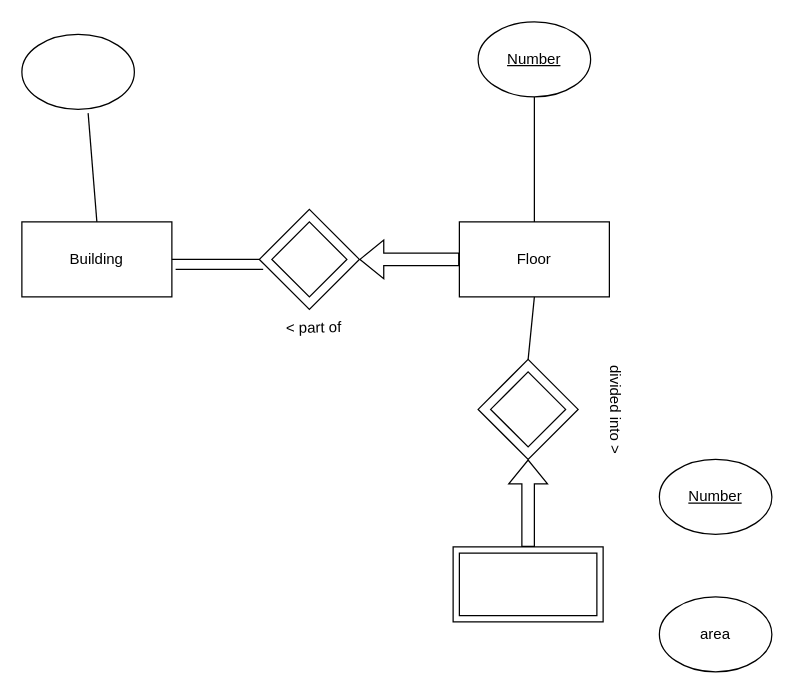
This 794x694 diagram has some shape labels left out. The shapes that lost their labels are listed below. From the top down, each one's centre as x and y in pixels, then its label:
pixel 77 71: Address
pixel 527 584: Room
